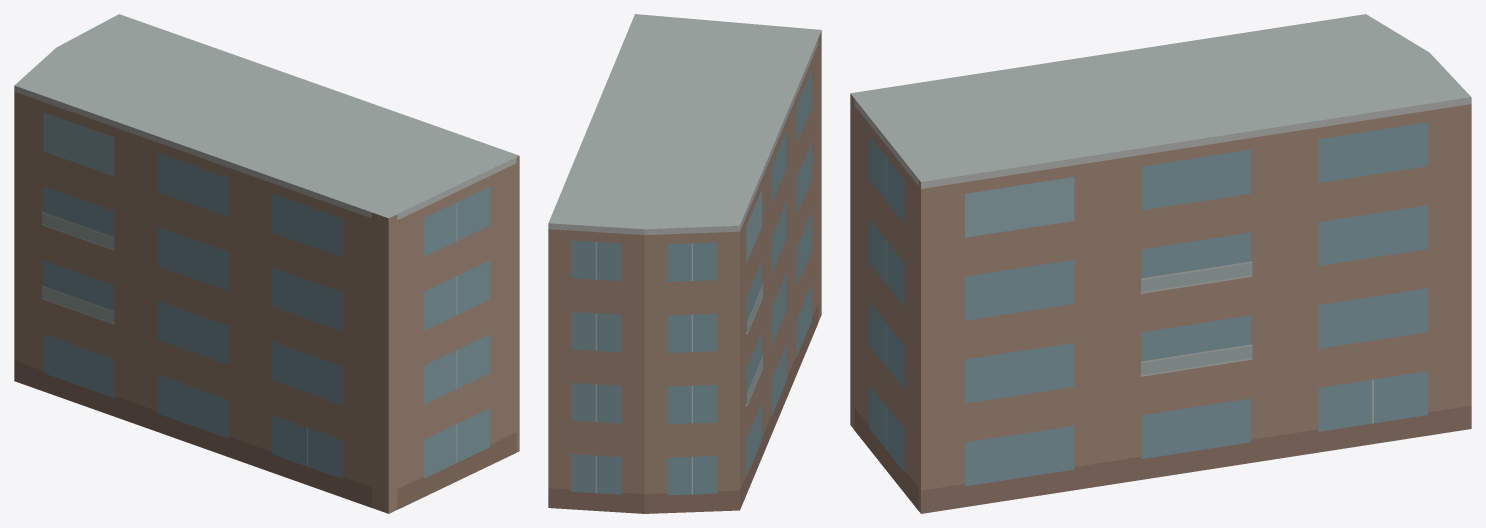
The model's file is survey-upis-32761870.glb.
The picture shows the model from 3 angles, left to right: view 1: azimuth 30°, elevation 25°; view 2: azimuth 150°, elevation 25°; view 3: azimuth 270°, elevation 25°; orthographic projection. The views are drawn at different scales.
Parts seen in each view (by area): view 1: survey-upis-32761870.tmp; view 2: survey-upis-32761870.tmp; view 3: survey-upis-32761870.tmp.
Boxes of the visible parts, x1,y1,x2,y2 form: survey-upis-32761870.tmp: [14, 14, 519, 513]; survey-upis-32761870.tmp: [548, 14, 821, 513]; survey-upis-32761870.tmp: [850, 14, 1471, 513].
Bounding box in the file's own units: 12.95 × 11.9 × 20.21.
